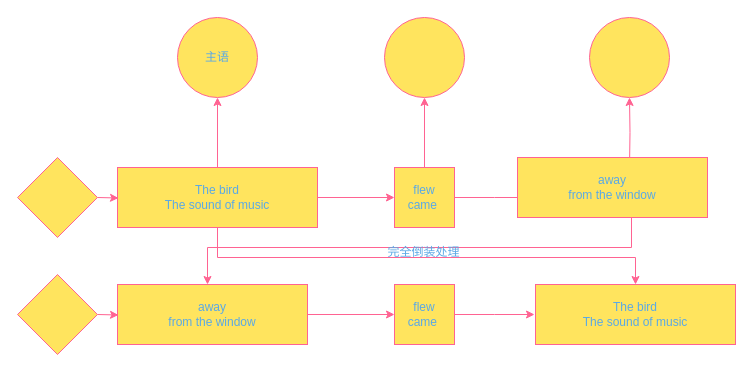
Image size: 753x372. Some labels were removed from this diagram. The shapes that lost their labels are listed below. From the top down, each one's box as (x1, y1, x2, y2) in pixels, then its label:
(384, 16, 464, 98): 谓语
(588, 16, 670, 98): 状语/副词
(16, 156, 98, 238): 正常语序
(16, 274, 98, 354): 倒装语序
